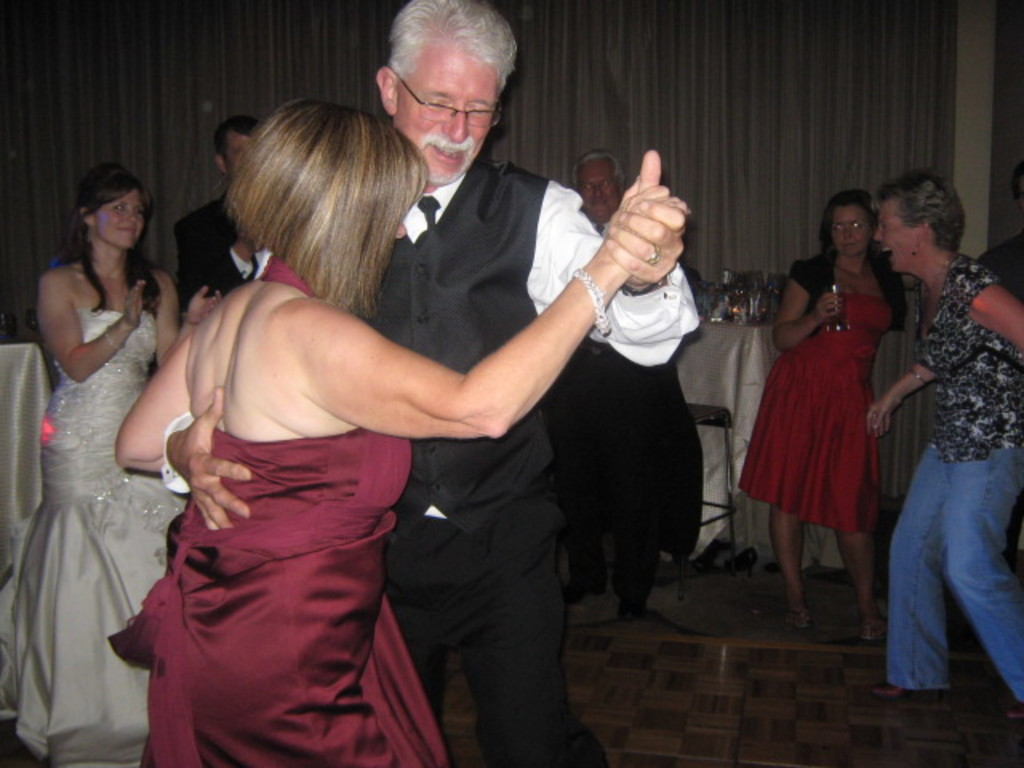Human_hand: (165, 393, 252, 529), (624, 151, 682, 283), (601, 179, 683, 252), (866, 393, 893, 437), (810, 289, 847, 321), (188, 284, 221, 319), (123, 277, 143, 327)
